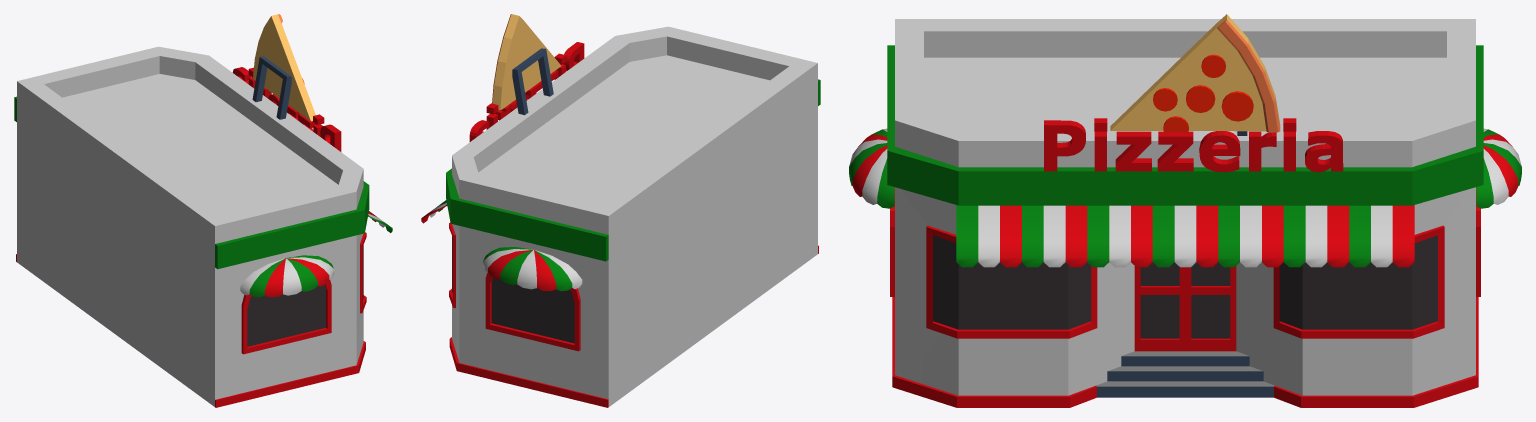
The model's file is pizzeria (2x1).fbx.
The picture shows the model from 3 angles, left to right: view 1: azimuth 30°, elevation 25°; view 2: azimuth 150°, elevation 25°; view 3: azimuth 270°, elevation 25°; orthographic projection. The views are drawn at different scales.
Visible parts, largest first — view 1: PizzaBuilding; view 2: PizzaBuilding; view 3: PizzaBuilding.
Boxes of the visible parts, bbox=[...] form: PizzaBuilding: bbox=[14, 14, 392, 407]; PizzaBuilding: bbox=[421, 14, 820, 407]; PizzaBuilding: bbox=[849, 14, 1521, 407].
Size of the model in its own units: 115 by 147 by 229.
